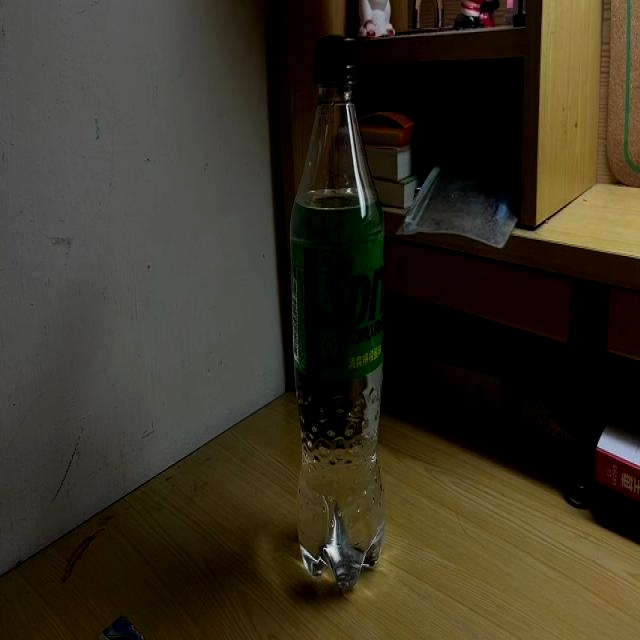Sprite: (288, 34, 388, 596)
